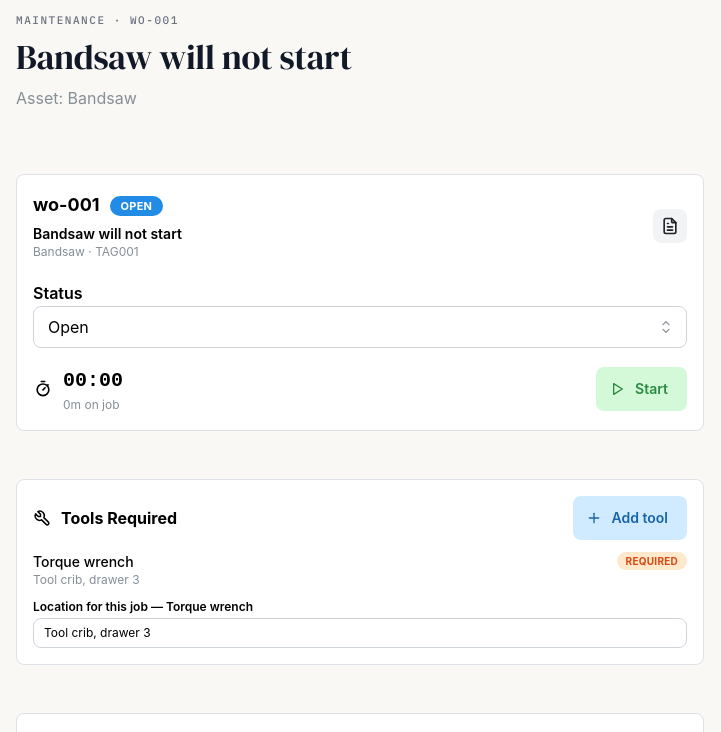
Test case: AC-21: WorkOrderPage edits per-job locations › shows the returned per-job location after restaging a template-derived row
The width and height of the screenshot is (721, 732).
Replace the text in the field labelled "Location for this job — Torque wrench" with "Bench 2" at coordinates (360, 633), box top-left (33, 618), bottom-right (687, 648)
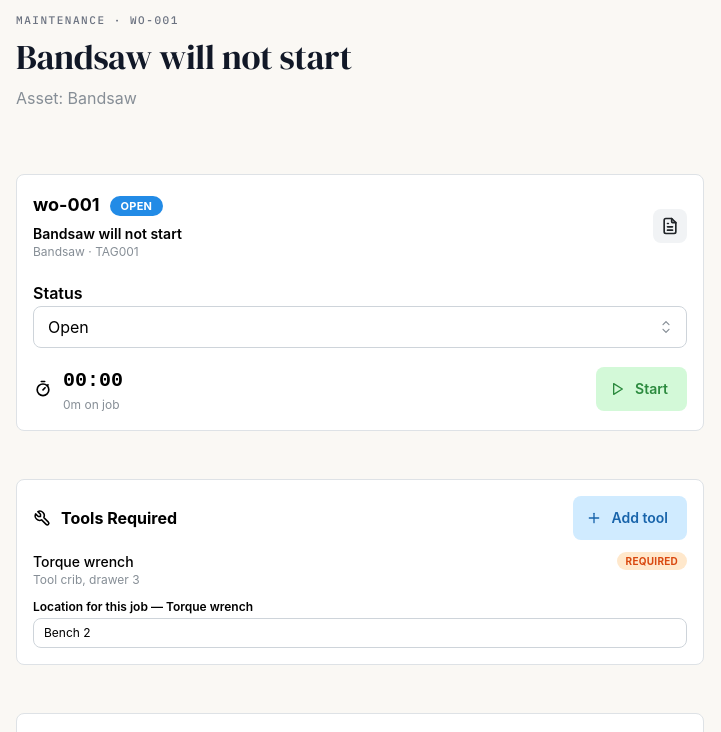
Leave the field labelled "Location for this job — Torque wrench", box top-left (33, 618), bottom-right (687, 648)
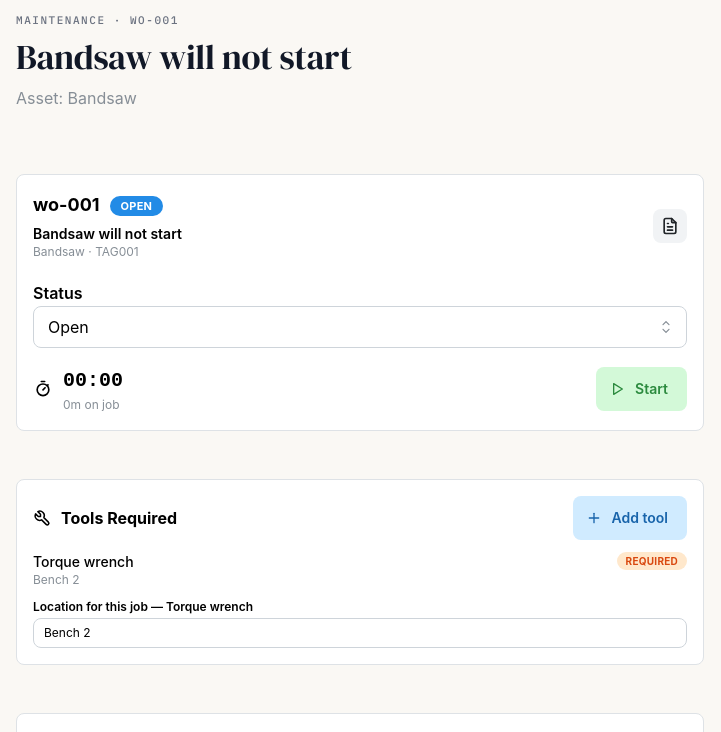
Expected: the text "Bench 2" is shown, top-left (33, 572), bottom-right (80, 587)
Expected: the text "Tool crib, drawer 3" is gone
